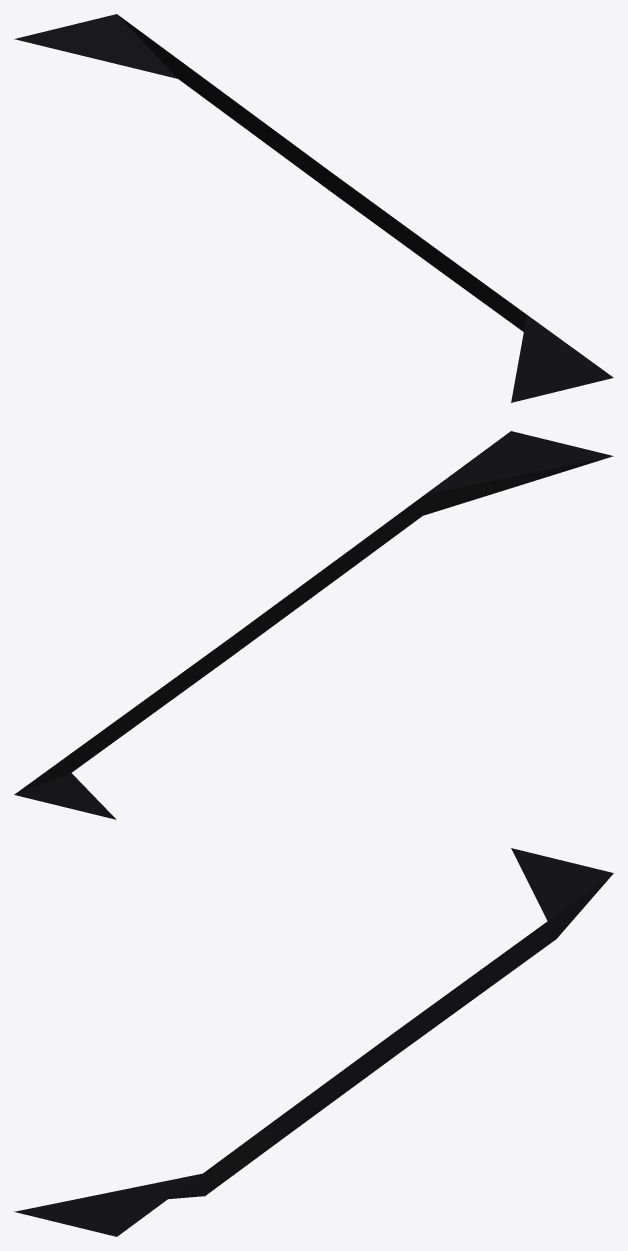
Rendered from skirt_R_skirt.glb.
The picture shows the model from 3 angles, top to bottom: view 1: azimuth 30°, elevation 25°; view 2: azimuth 150°, elevation 25°; view 3: azimuth 330°, elevation 25°; orthographic projection.
Visible parts, largest first — view 1: skirt_R_skirt; view 2: skirt_R_skirt; view 3: skirt_R_skirt.
Boxes of the visible parts, left/top/right/bottom form: skirt_R_skirt: left=14, top=14, right=613, bottom=402; skirt_R_skirt: left=14, top=431, right=613, bottom=819; skirt_R_skirt: left=14, top=848, right=613, bottom=1236.
Size of the model in its own units: 0.2242 by 0.045 by 1.84.
Materials: 1 (1 with a texture image).
